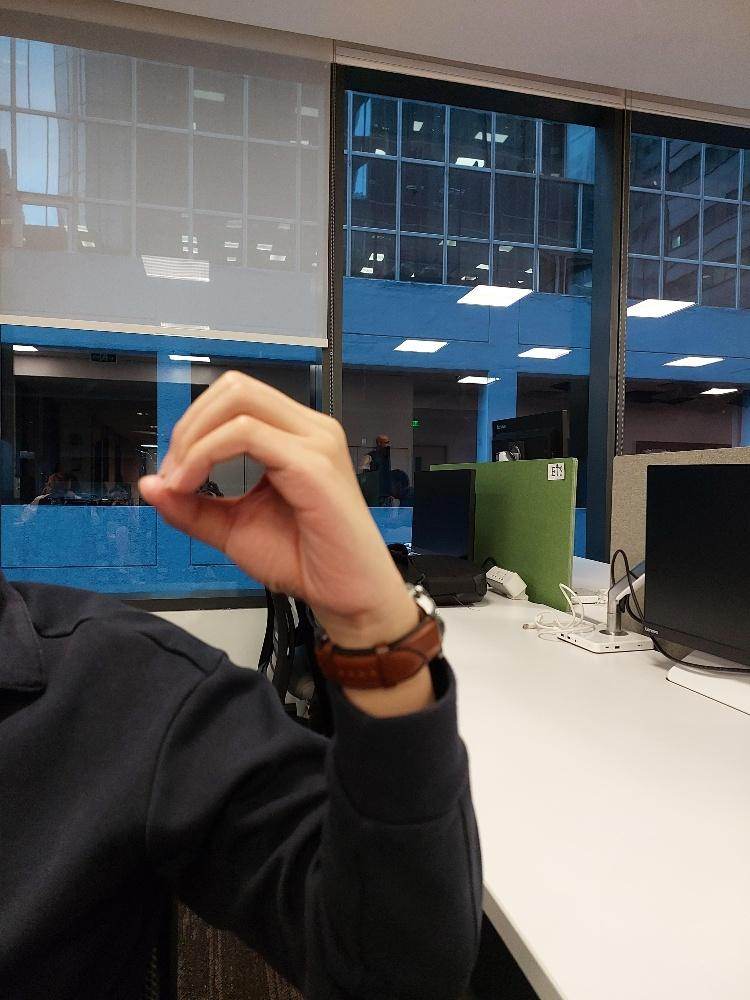o: (136, 368, 375, 615)
